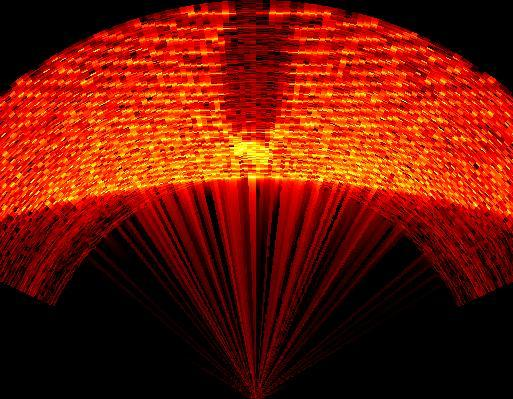box_crate: (221, 7, 298, 167)
